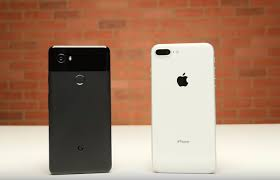phone: (149, 42, 217, 175), (47, 44, 113, 175)
